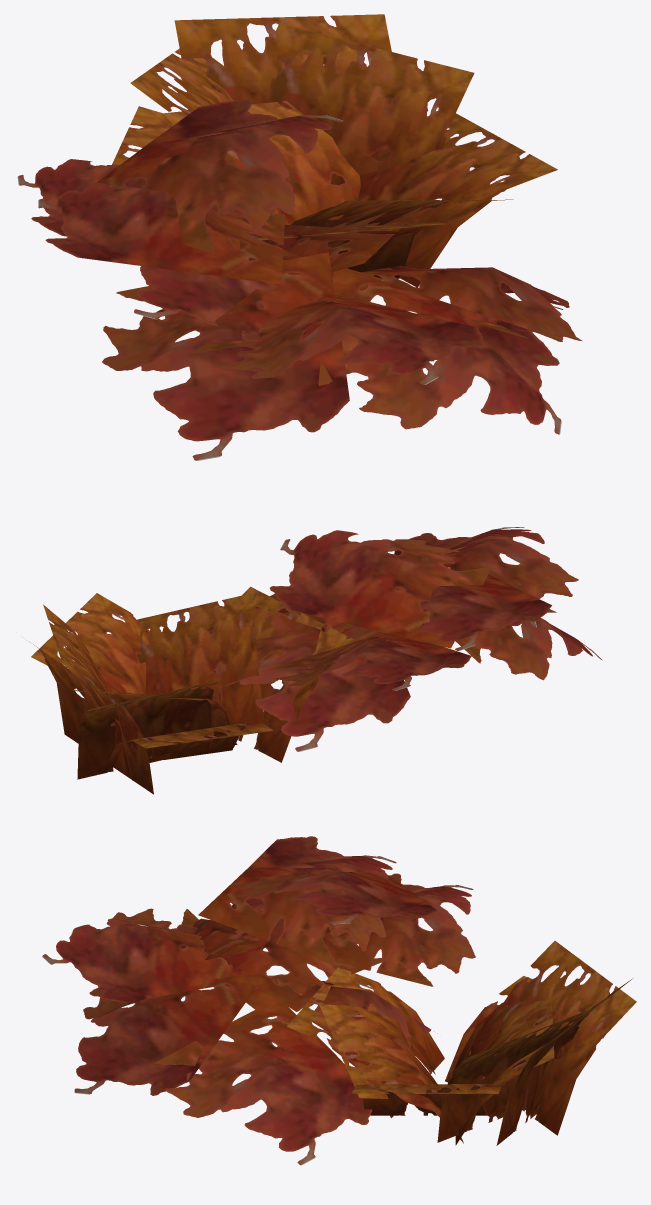
Rendered from City_bujian_42.fbx.
3 views of the same model, one above another, from view 1: azimuth 30°, elevation 25°; view 2: azimuth 150°, elevation 25°; view 3: azimuth 270°, elevation 25° (orthographic). The views are drawn at different scales.
Visible parts, largest first — view 1: pasted__DrawCall_00103; view 2: pasted__DrawCall_00103; view 3: pasted__DrawCall_00103.
Boxes of the visible parts, x1,y1,x2,y2 form: pasted__DrawCall_00103: [17, 14, 582, 460]; pasted__DrawCall_00103: [30, 527, 602, 794]; pasted__DrawCall_00103: [42, 836, 636, 1165].
Size of the model in its own units: 3.24 by 1.34 by 3.98.
